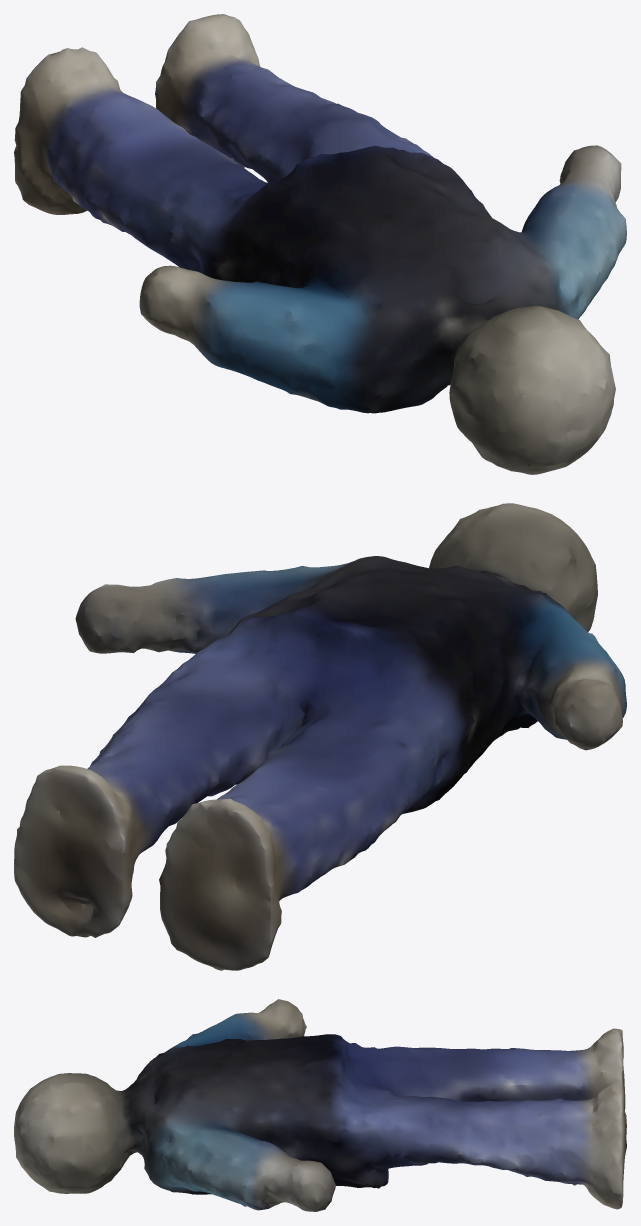
File: grandfather.glb
3 renders of one model, top to bottom at view 1: azimuth 30°, elevation 25°; view 2: azimuth 150°, elevation 25°; view 3: azimuth 270°, elevation 25°, orthographic. The views are drawn at different scales.
Bounding box in the file's own units: 0.6848 × 0.2376 × 0.9978.
